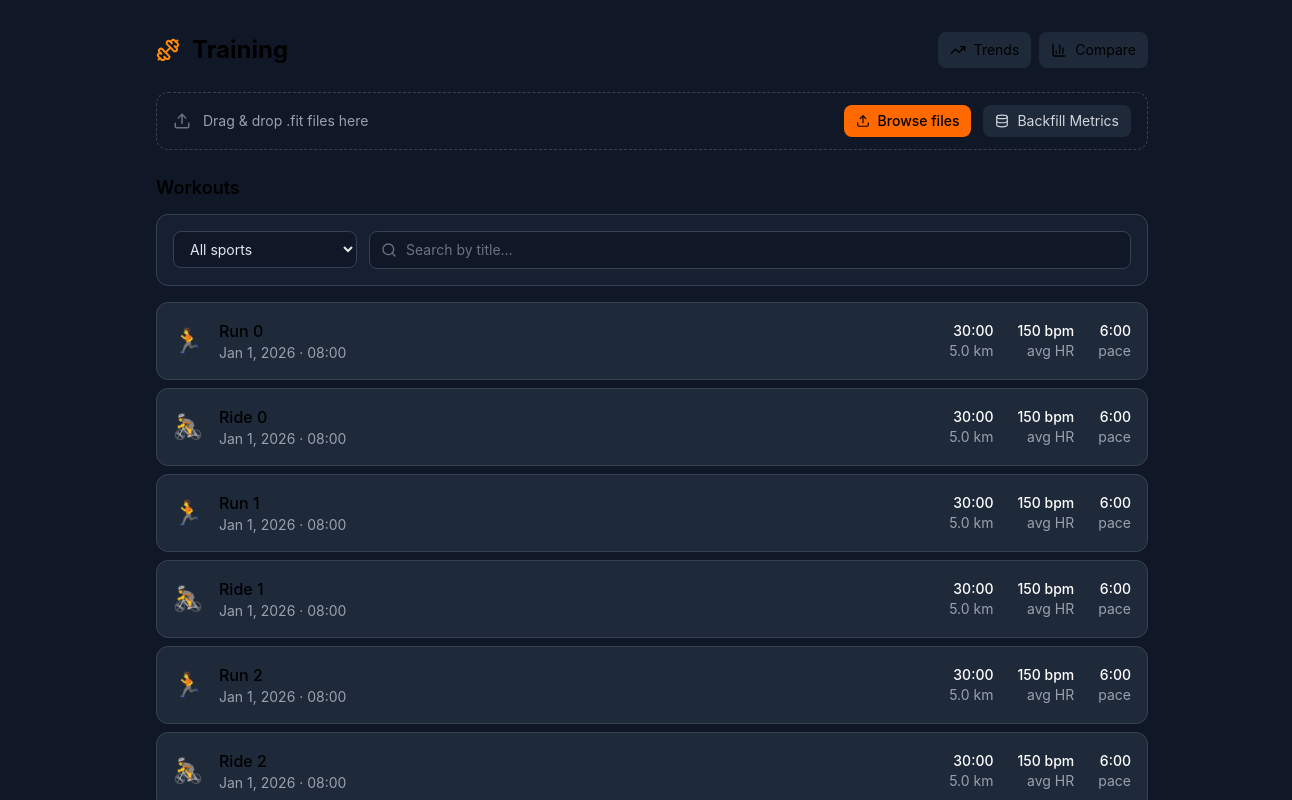
Test: Training filtered pagination › sends the cursor together with the active filters when loading more
Expected: the text "Run 0" is shown, [219,321,263,341]
Select "running" in the dropdown named "Filter by sport" at (265, 250), box [173,231,357,268]
(page scrolled)
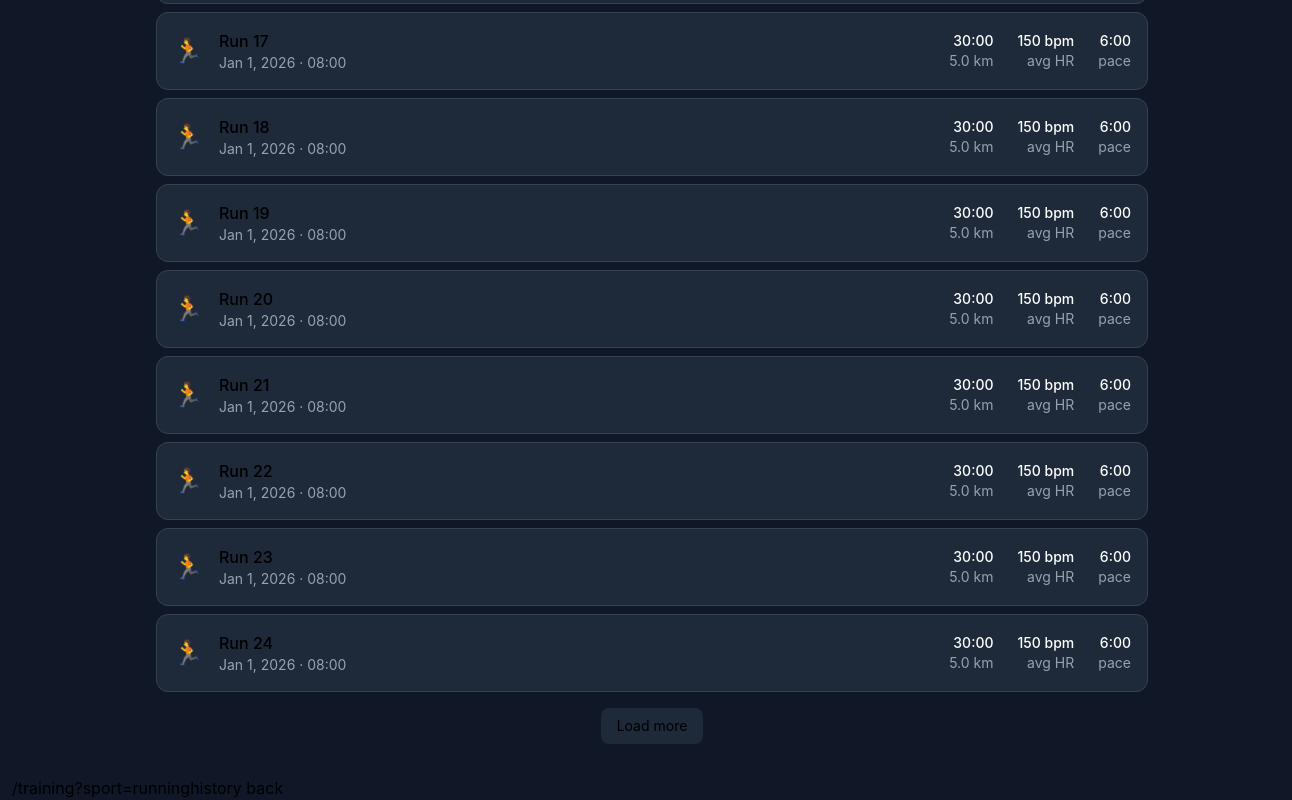
Click the button "Load more".
click(652, 726)  # box [601,708,703,744]
(page scrolled)
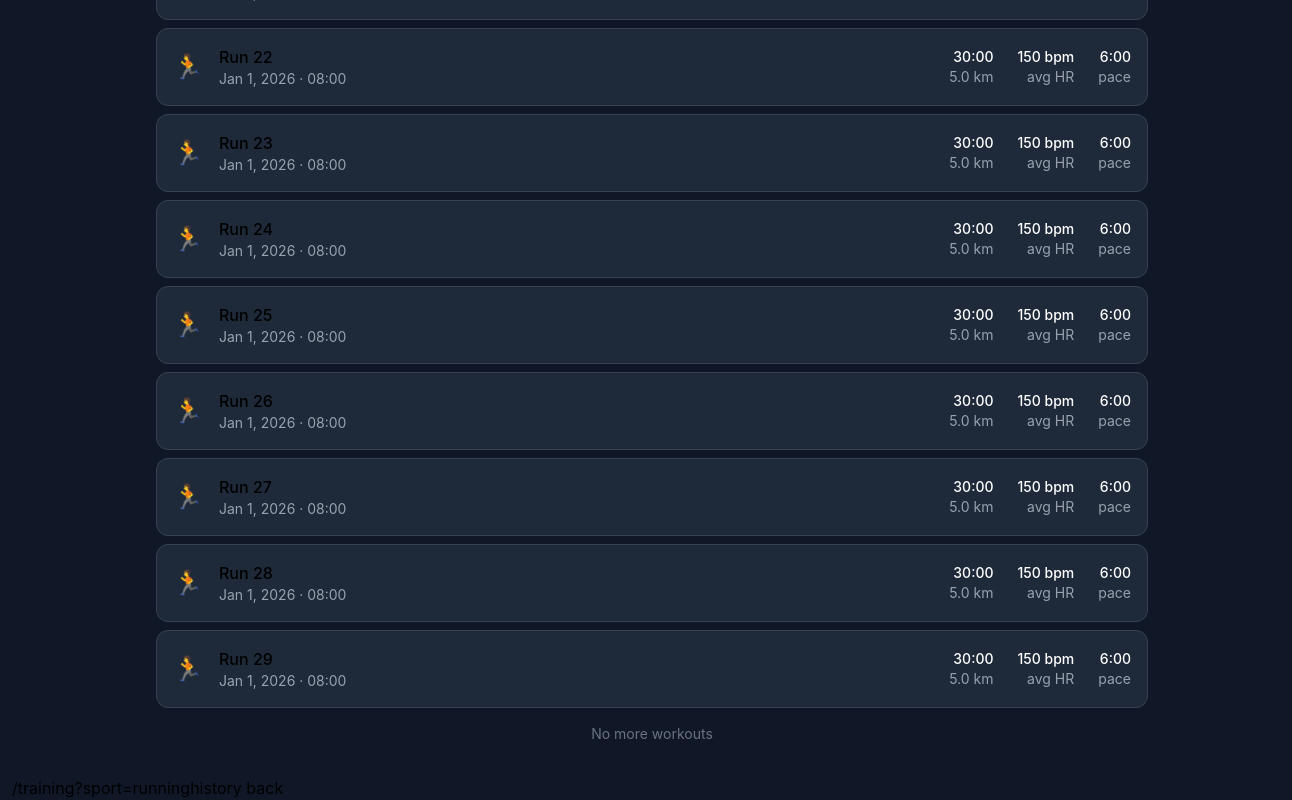
Expected: the link "Ride 0" is not shown
Expected: the text "Run 29" is shown, [219,649,273,669]
Expected: the button "Load more" is gone
